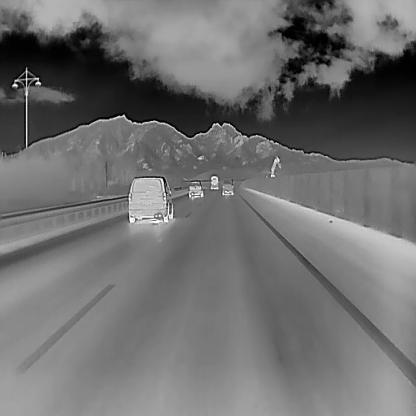car: (127, 173, 173, 223), (188, 180, 203, 198), (221, 177, 233, 195)
truck: (209, 173, 219, 189)
